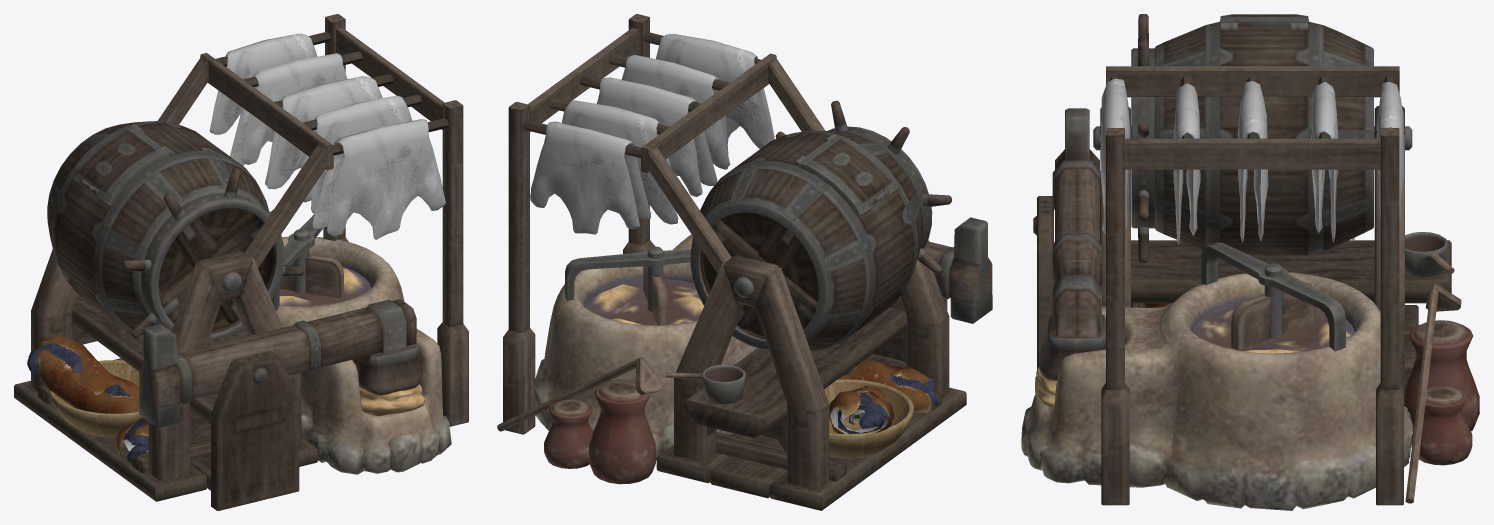
The model's file is tanning_station.glb.
3 renders of one model, left to right at view 1: azimuth 30°, elevation 25°; view 2: azimuth 150°, elevation 25°; view 3: azimuth 270°, elevation 25°, orthographic. The views are drawn at different scales.
Parts seen in each view (by area): view 1: npc_props_leather_production_01; view 2: npc_props_leather_production_01; view 3: npc_props_leather_production_01.
Part boxes in pixels (<box>): npc_props_leather_production_01: <box>14,14,468,510</box>; npc_props_leather_production_01: <box>497,14,992,510</box>; npc_props_leather_production_01: <box>1021,14,1479,510</box>.
Size of the model in its own units: 2.6 by 2.22 by 2.49.
Materials: 5 (5 with a texture image).
